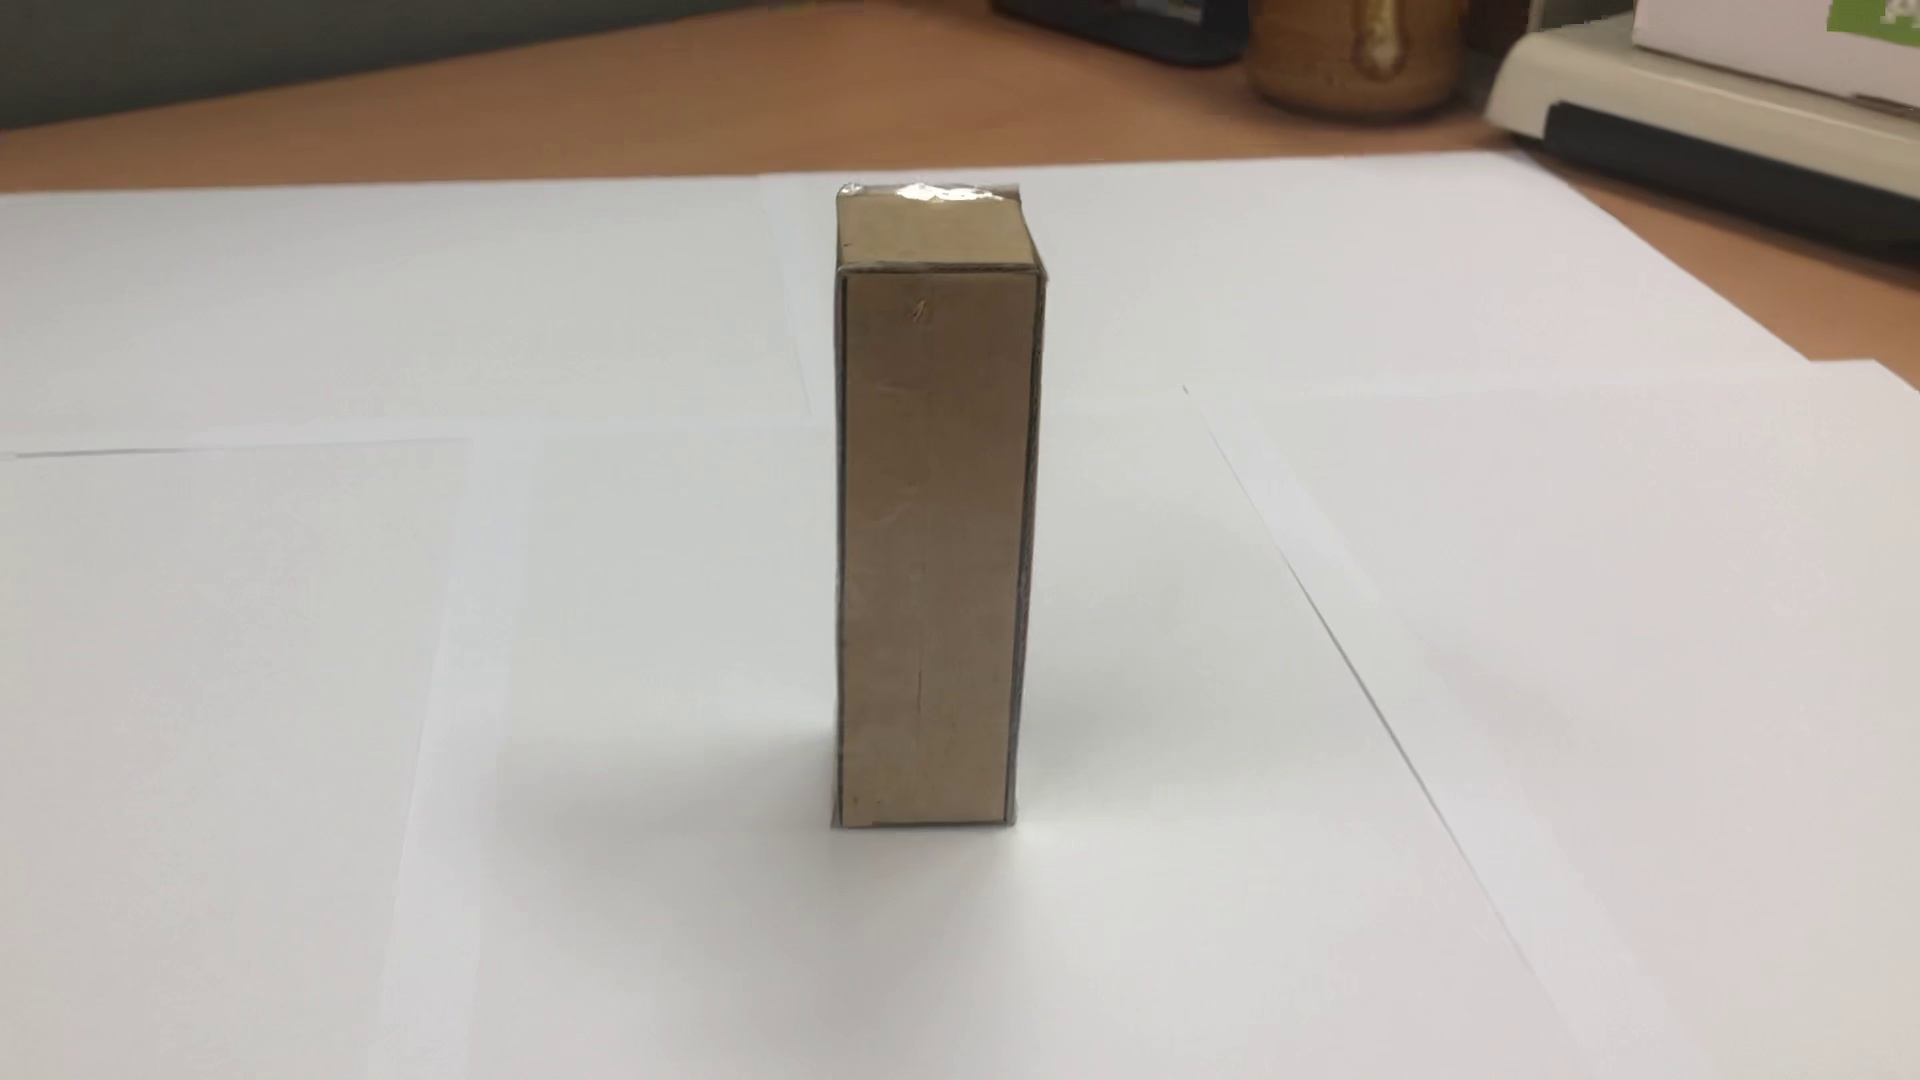box: (804, 164, 1047, 856)
